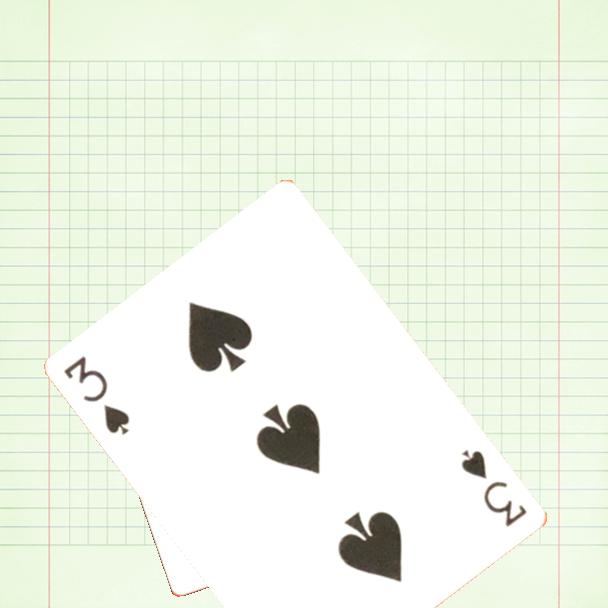s03: (60, 352, 134, 438), (458, 446, 531, 531)
